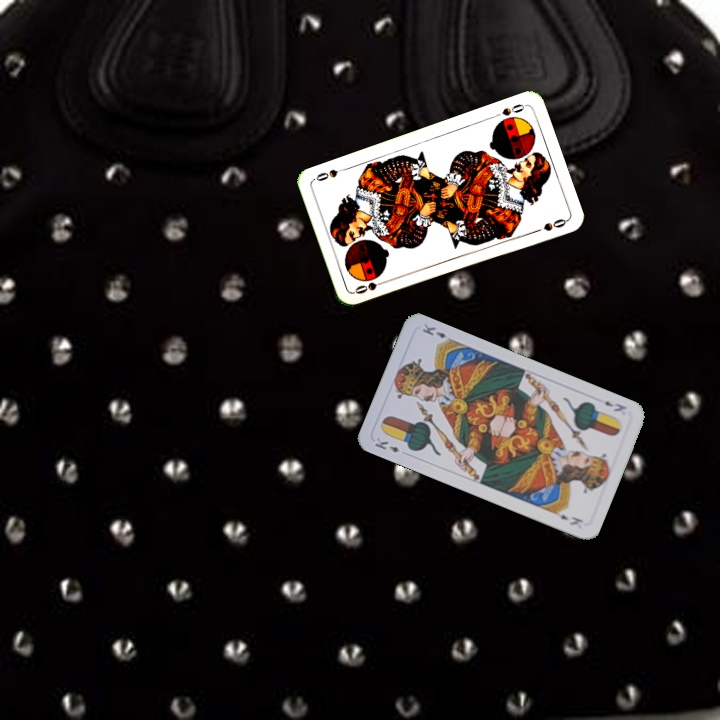EK: (370, 433, 402, 455), (600, 397, 629, 414)
SO: (351, 276, 390, 297), (489, 100, 528, 120)
